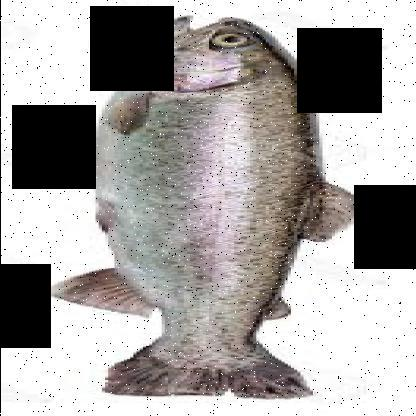fish: (53, 16, 366, 398)
